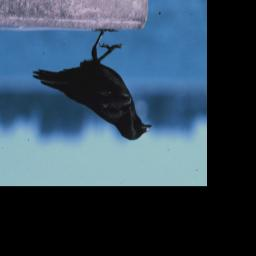Crow: (31, 27, 153, 144)
